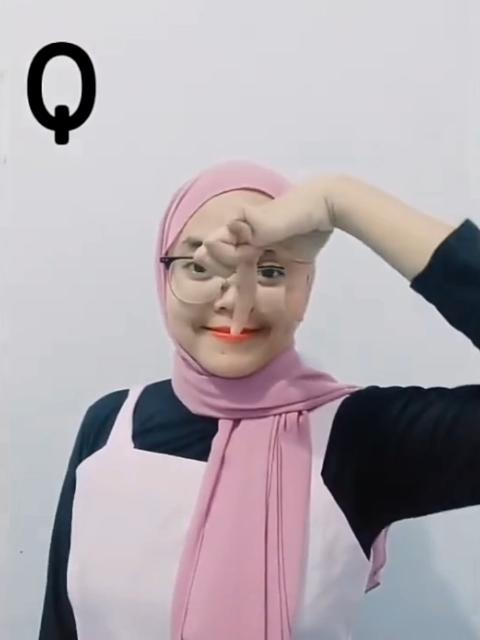P: (192, 174, 350, 346)
